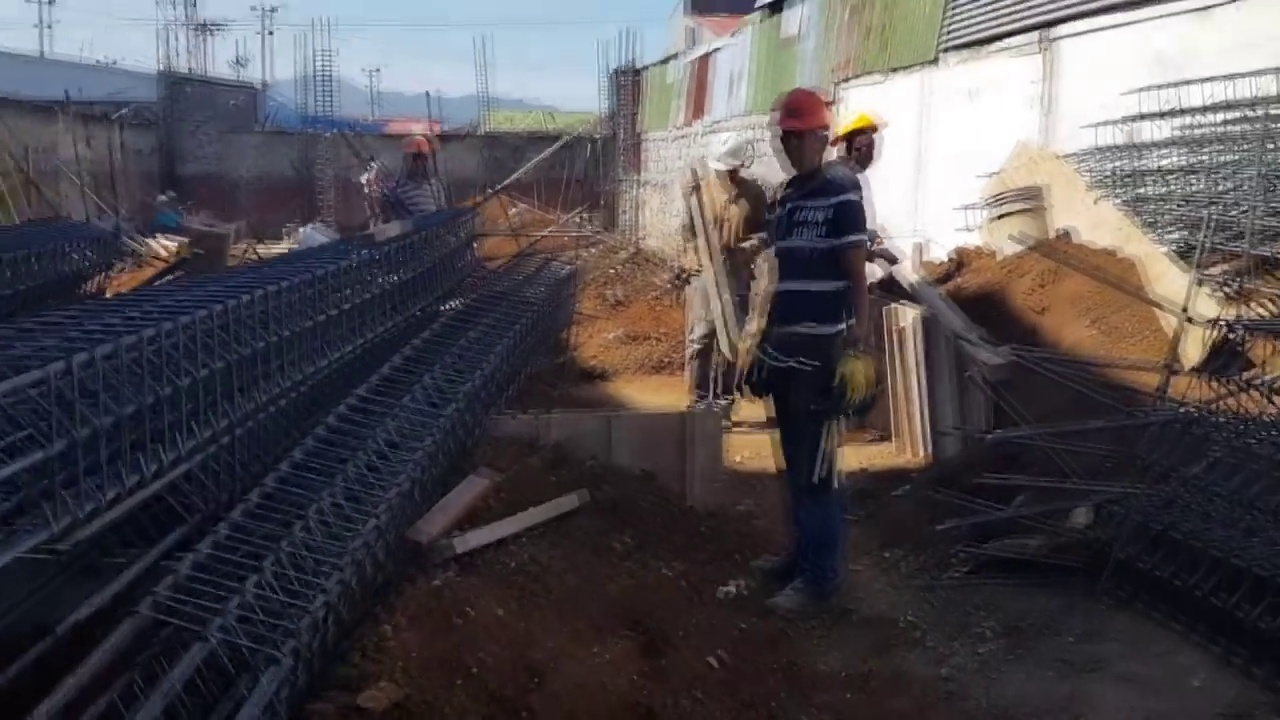helmet: (776, 85, 835, 132), (829, 109, 879, 147), (708, 130, 746, 170), (399, 134, 434, 157), (155, 194, 170, 203)
helmet-on: (776, 84, 835, 177), (828, 106, 880, 172), (707, 127, 748, 187), (398, 132, 435, 179), (155, 193, 169, 211)
person: (764, 87, 868, 437), (678, 128, 766, 432), (396, 132, 447, 217), (153, 193, 181, 231)
